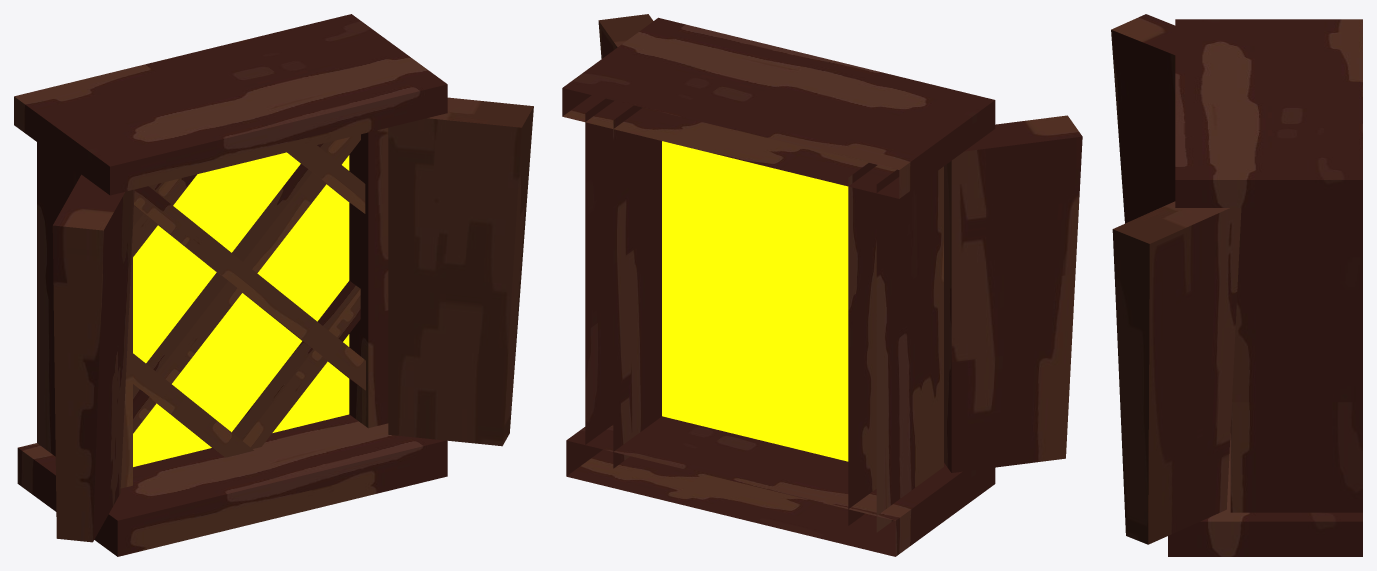
The model's file is SM_BLD_window_v08_01.glb.
The picture shows the model from 3 angles, left to right: view 1: azimuth 30°, elevation 25°; view 2: azimuth 150°, elevation 25°; view 3: azimuth 270°, elevation 25°; orthographic projection. The views are drawn at different scales.
Visible parts, largest first — view 1: SM_BLD_window_v08_01_EXPORT; view 2: SM_BLD_window_v08_01_EXPORT; view 3: SM_BLD_window_v08_01_EXPORT.
Boxes of the visible parts, x1=… form: SM_BLD_window_v08_01_EXPORT: x1=14, y1=14, x2=533, y2=556; SM_BLD_window_v08_01_EXPORT: x1=562, y1=14, x2=1082, y2=556; SM_BLD_window_v08_01_EXPORT: x1=1111, y1=14, x2=1362, y2=556.
Size of the model in its own units: 1.13 by 0.8665 by 0.5222.
Materials: 2 (2 with a texture image).
